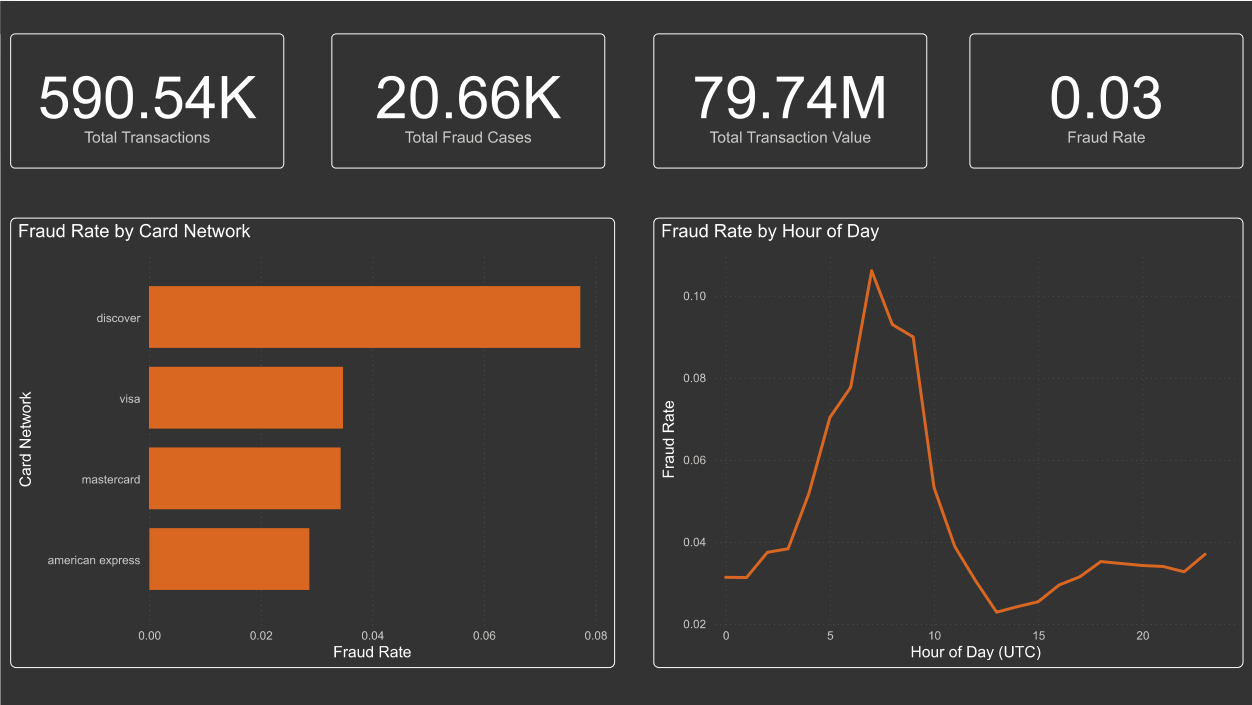

What the dashboard file says about the page in this screenshot:
{"tool":"powerbi","page":{"name":"Fraud Overview","canvas":[1280,720],"ordinal":0},"visuals":[{"type":"card","fields":{"Values":["CountNonNull(fact_transactions.TransactionID)"]},"box":[10.4,32.6,280.1,138.9],"z":0},{"type":"card","fields":{"Values":["Sum(fact_transactions.isFraud)"]},"box":[337.9,32.6,280.1,138.9],"z":1000},{"type":"card","fields":{"Values":["Sum(fact_transactions.TransactionAmt)"]},"box":[666.6,32.6,280.1,138.9],"z":2000},{"type":"card","fields":{"Values":["Avg(fact_transactions.isFraud)"]},"box":[989.5,32.6,280.1,138.9],"z":3000},{"type":"clusteredBarChart","title":"Fraud Rate by Card Network","fields":{"Category":["fact_transactions.card4"],"Y":["Avg(fact_transactions.isFraud)"]},"box":[10.4,221.3,618,459.5],"z":4000},{"type":"lineChart","title":"Fraud Rate by Hour of Day","fields":{"Category":["fact_transactions.hour"],"Y":["Avg(fact_transactions.isFraud)"]},"box":[666.6,221.3,603,459.5],"z":5000}]}

Visuals, with their boxes in screenshot pixels (x1, y1, x2, y2), scaled from the page's 1280x720 canvas onto the 1252x705 screenshot:
card - CountNonNull(fact_transactions.TransactionID): x1=10, y1=32, x2=284, y2=168
card - Sum(fact_transactions.isFraud): x1=331, y1=32, x2=604, y2=168
card - Sum(fact_transactions.TransactionAmt): x1=652, y1=32, x2=926, y2=168
card - Avg(fact_transactions.isFraud): x1=968, y1=32, x2=1242, y2=168
"Fraud Rate by Card Network" clusteredBarChart: x1=10, y1=217, x2=615, y2=667
"Fraud Rate by Hour of Day" lineChart: x1=652, y1=217, x2=1242, y2=667
